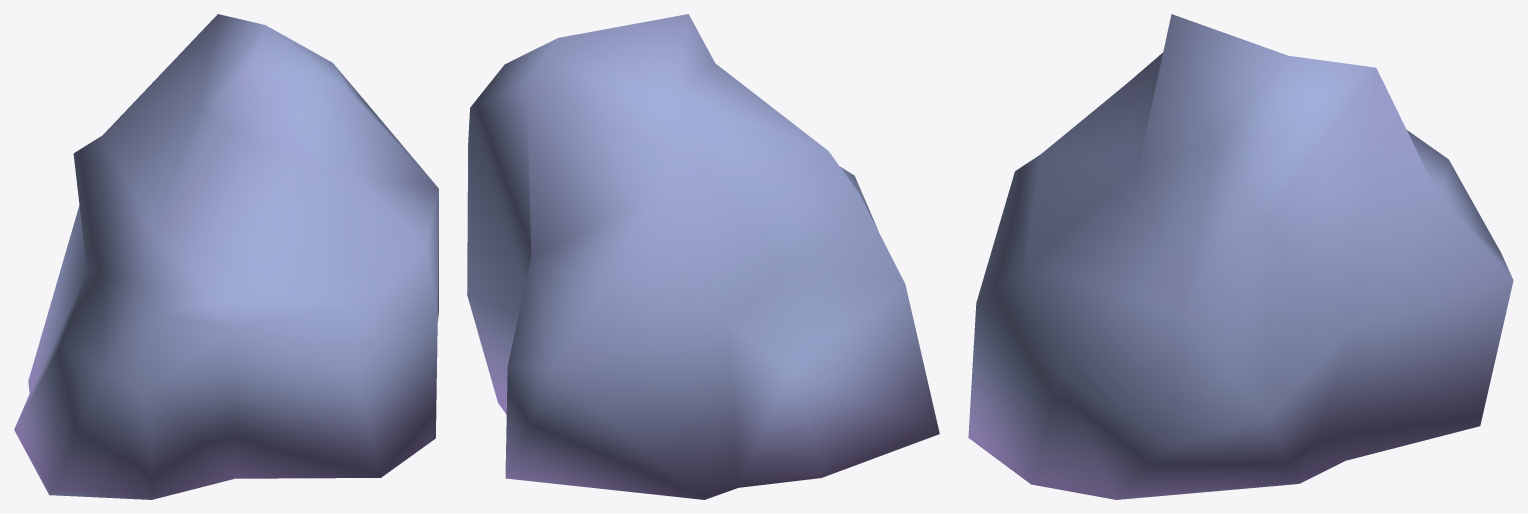
Rendered from Boulder2.glb.
The picture shows the model from 3 angles, left to right: view 1: azimuth 30°, elevation 25°; view 2: azimuth 150°, elevation 25°; view 3: azimuth 270°, elevation 25°; orthographic projection. The views are drawn at different scales.
Visible parts, largest first — view 1: Boulder2; view 2: Boulder2; view 3: Boulder2.
Part boxes in pixels (<box>): Boulder2: <box>14,14,438,499</box>; Boulder2: <box>467,14,939,499</box>; Boulder2: <box>968,14,1513,499</box>.
Size of the model in its own units: 4.85 by 3.93 by 4.82.
1 material, 1 textured.
